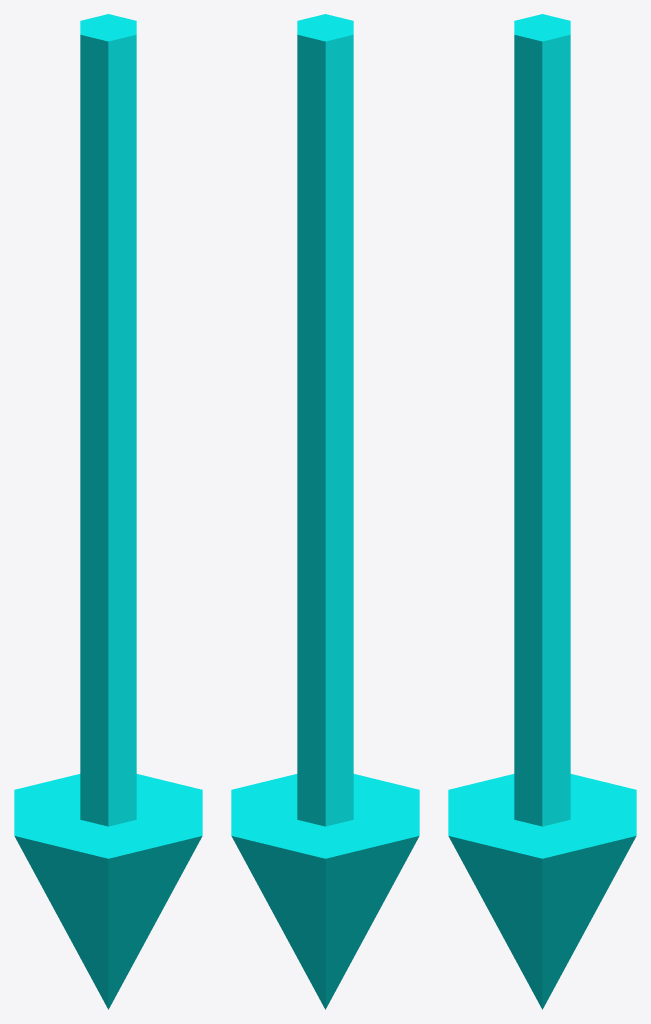
Rendered from arrow90.obj.
3 views of the same model, side by side, from view 1: azimuth 30°, elevation 25°; view 2: azimuth 150°, elevation 25°; view 3: azimuth 270°, elevation 25° (orthographic).
Parts seen in each view (by area): view 1: pCylinder2; view 2: pCylinder2; view 3: pCylinder2.
Boxes of the visible parts, left/top/right/bottom form: pCylinder2: left=14, top=14, right=202, bottom=1009; pCylinder2: left=231, top=14, right=419, bottom=1009; pCylinder2: left=448, top=14, right=636, bottom=1009.
Size of the model in its own units: 0.1 by 0.4982 by 0.0866.
